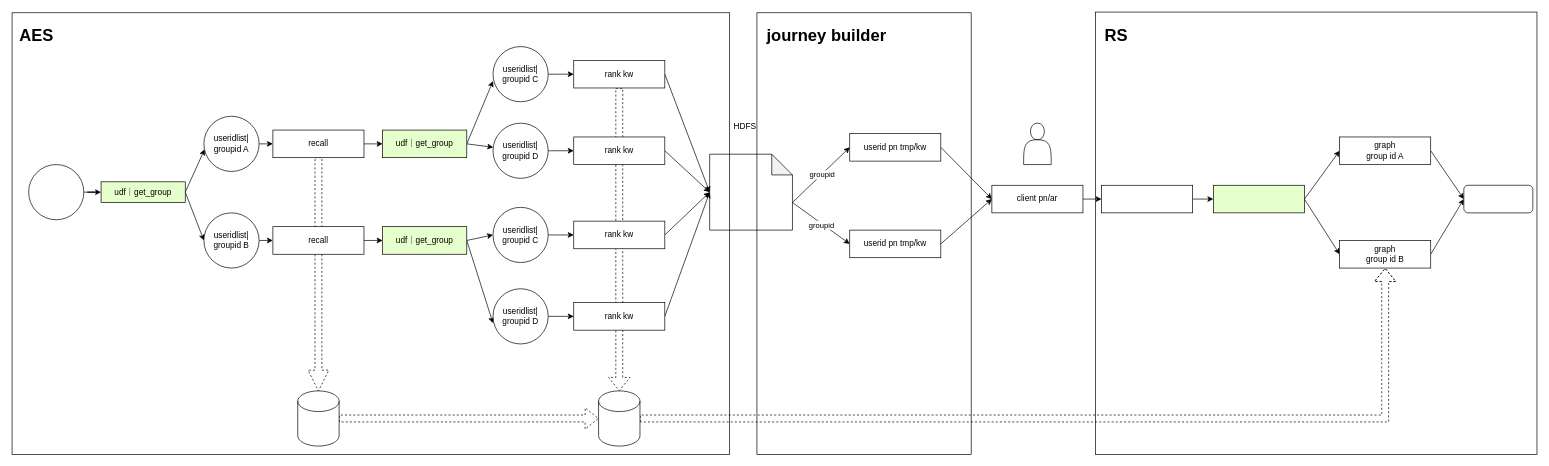
This 1549x466 diagram has some shape labels left out. The centre of each missing label's shape, as x and y in pixels:
absdk: (x=1258, y=199)
recall list A/B: (x=318, y=418)
recall list A[CD]/B[CD]: (x=619, y=418)
response: (x=1498, y=199)
rs cmd: (x=1147, y=199)
userid kw [groupid] userid kw [groupid] userid kw [groupid]: (x=750, y=192)
useridlist: (x=56, y=192)
